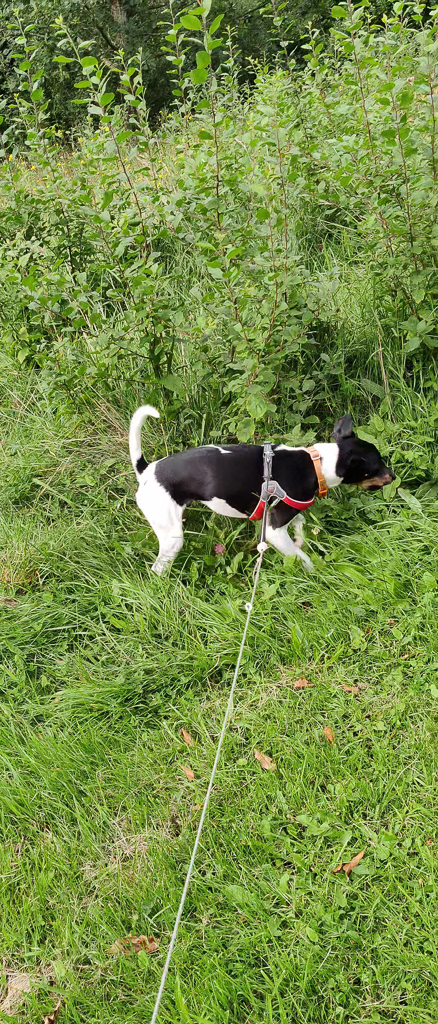Dog: (116, 401, 410, 589)
